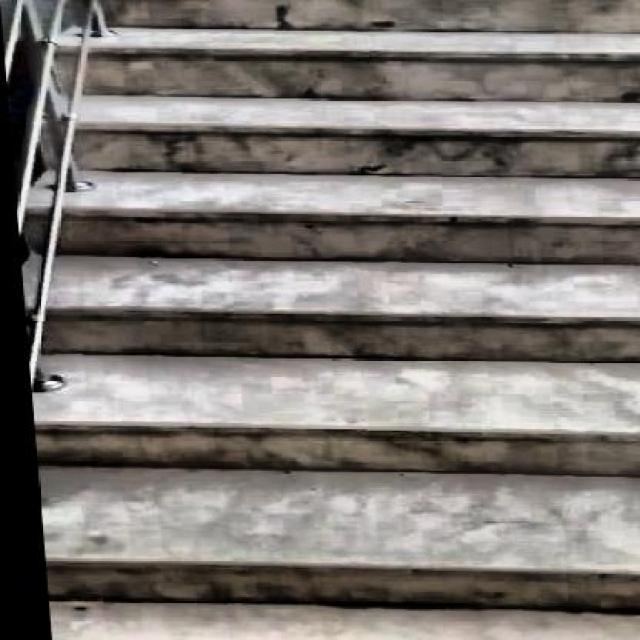stair: (21, 0, 638, 602)
